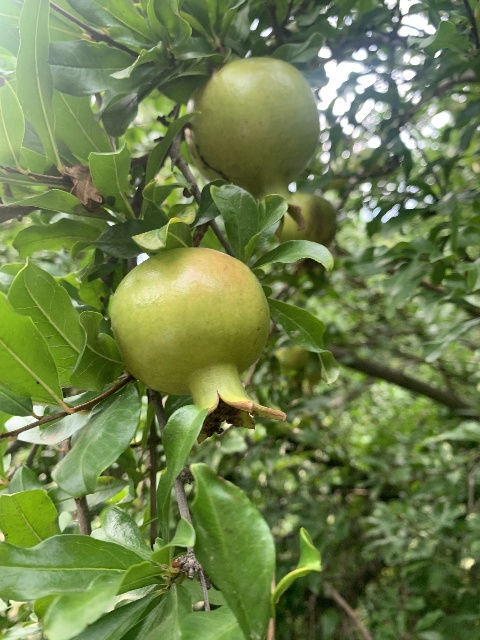mid-growth: (109, 247, 284, 423), (186, 55, 323, 242), (270, 193, 337, 277)
